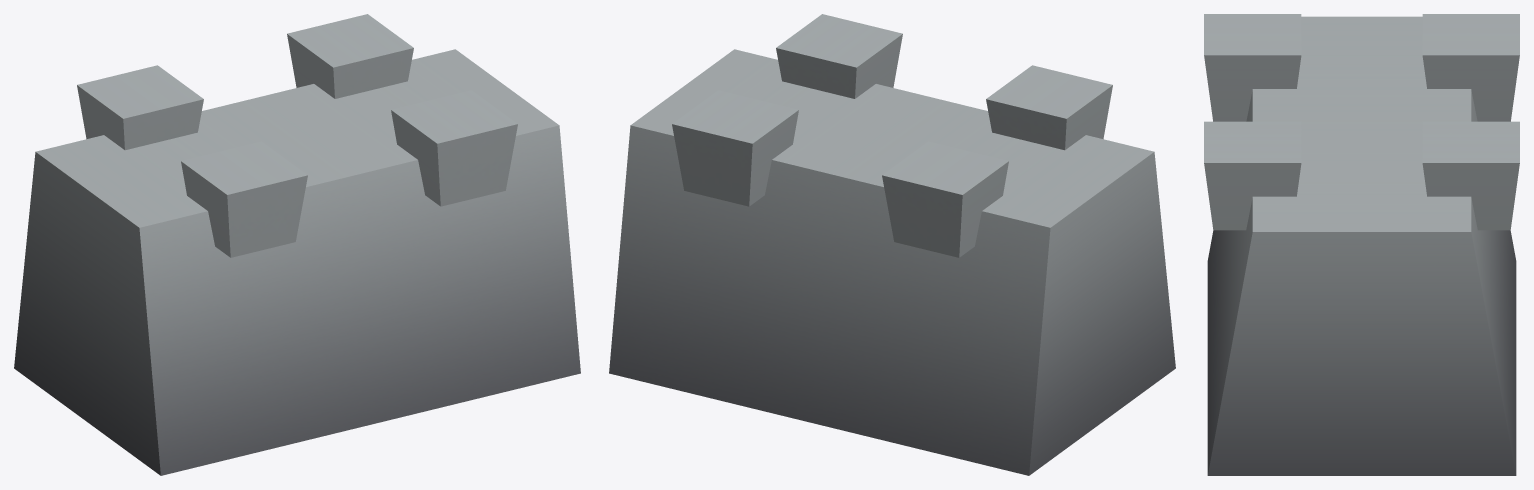
Rendered from SM_WallSide_Rampart.fbx.
3 views of the same model, side by side, from view 1: azimuth 30°, elevation 25°; view 2: azimuth 150°, elevation 25°; view 3: azimuth 270°, elevation 25° (orthographic). The views are drawn at different scales.
Visible parts, largest first — view 1: SM_WallSide_Rampart; view 2: SM_WallSide_Rampart; view 3: SM_WallSide_Rampart.
Boxes of the visible parts, x1,y1,x2,y2 form: SM_WallSide_Rampart: [14, 14, 580, 475]; SM_WallSide_Rampart: [609, 14, 1175, 475]; SM_WallSide_Rampart: [1204, 14, 1519, 475].
Size of the model in its own units: 200 by 121 by 124.
